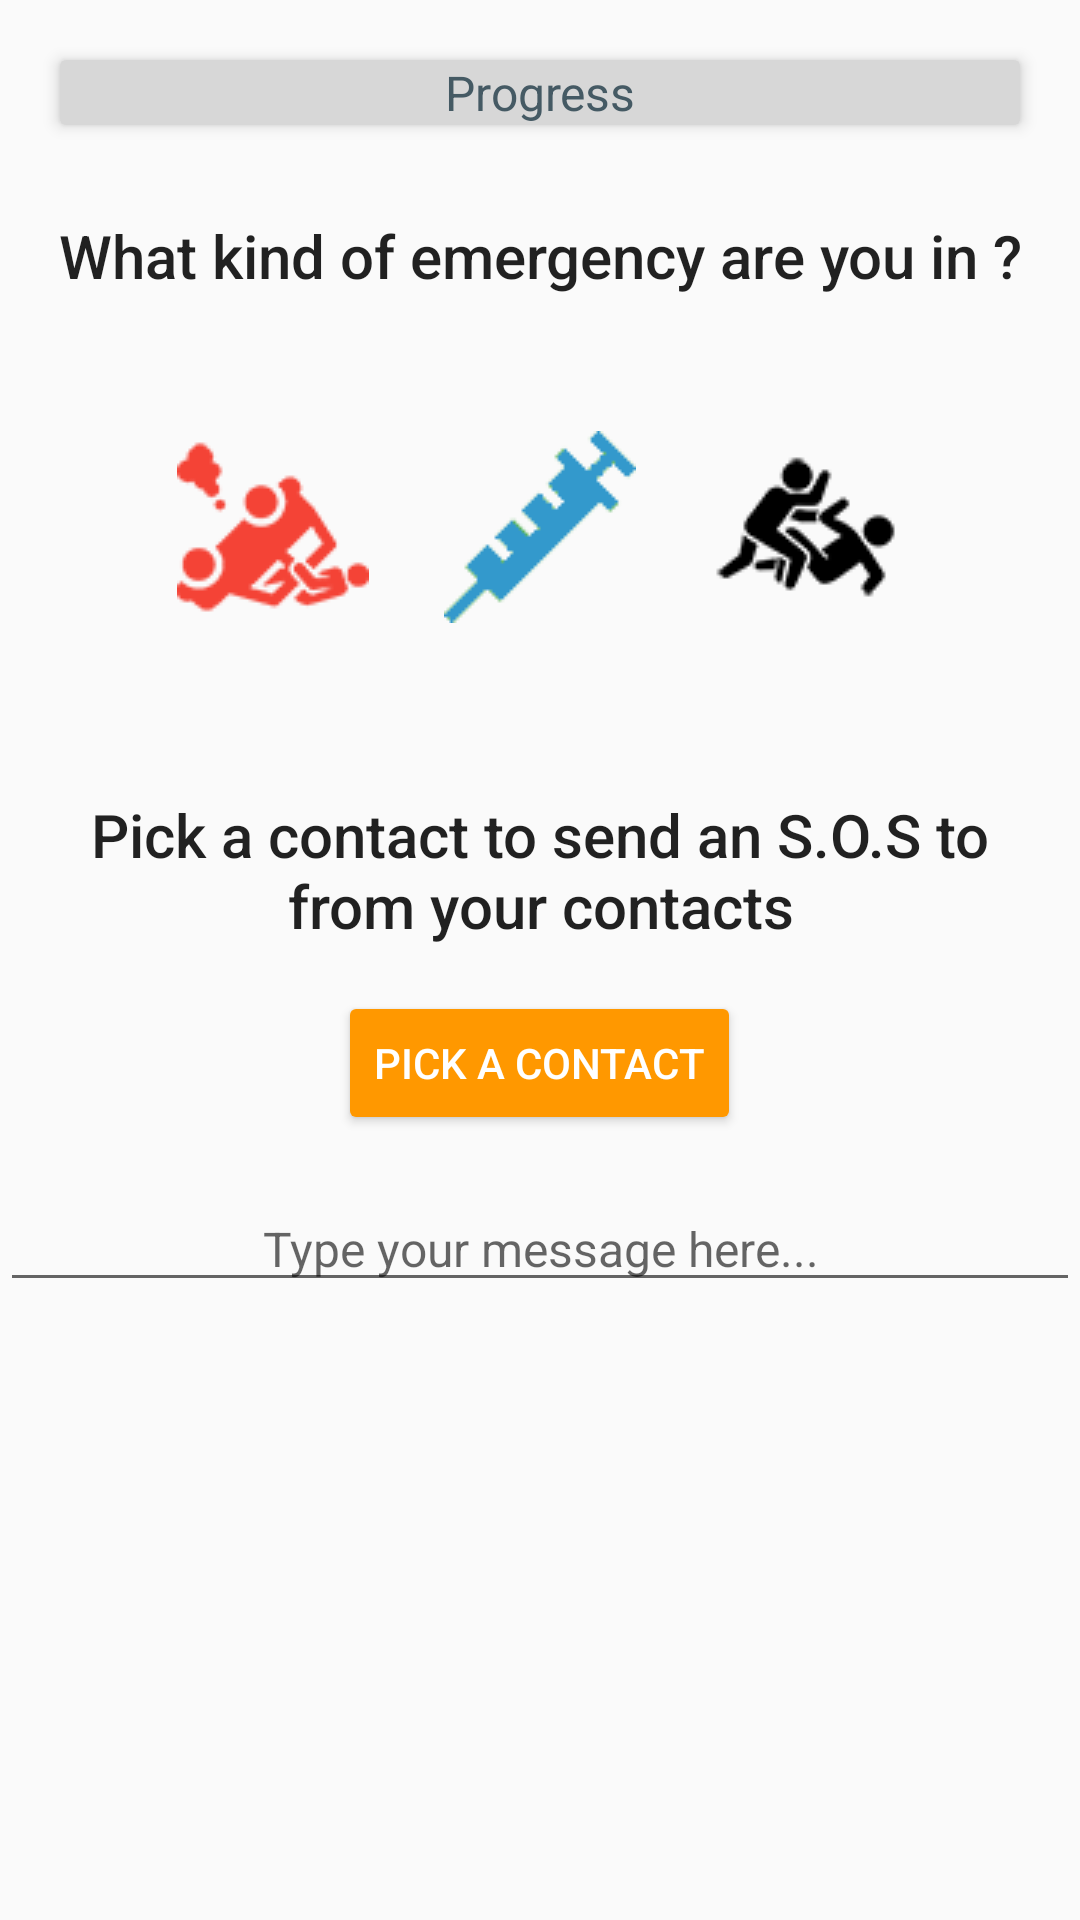

Locate icon controls on the screen. Image size 1080x1920, boxes as bbox=(x1, y1, x2, y2).
accident: bbox=(177, 442, 369, 612)
assault: bbox=(716, 457, 895, 597)
syringe: bbox=(444, 431, 636, 623)
